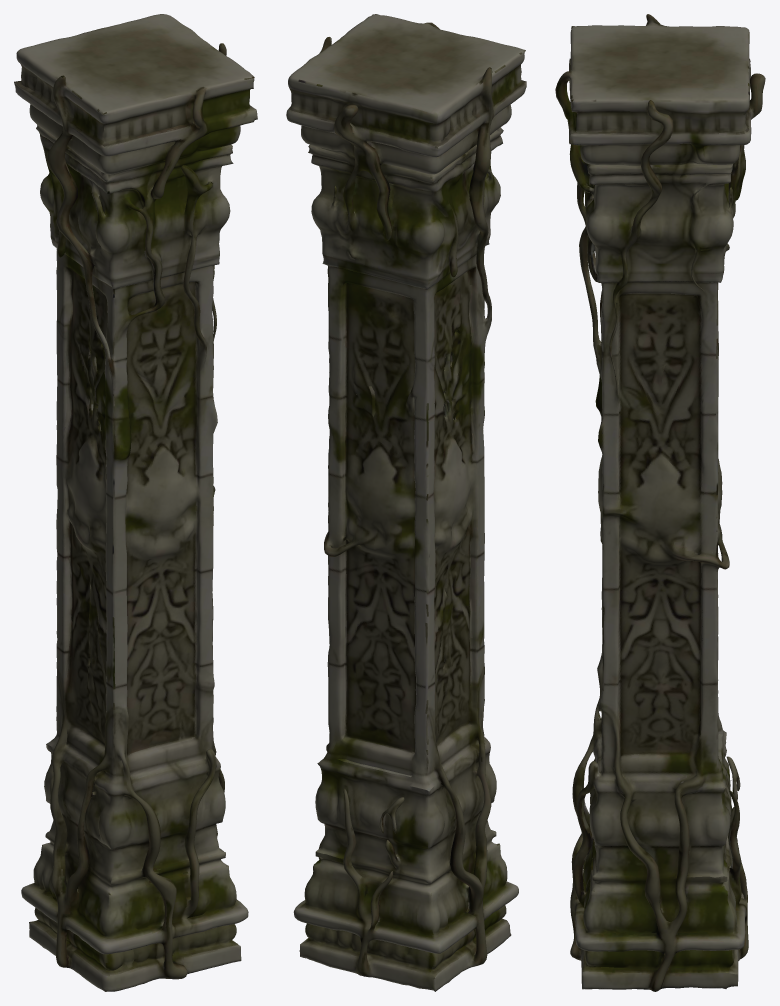
Rendered from Pillar.fbx.
3 views of the same model, side by side, from view 1: azimuth 30°, elevation 25°; view 2: azimuth 150°, elevation 25°; view 3: azimuth 270°, elevation 25° (orthographic).
Parts seen in each view (by area): view 1: tripo_node_7c297cb0; view 2: tripo_node_7c297cb0; view 3: tripo_node_7c297cb0.
Part boxes in pixels (left/top/right/bottom): tripo_node_7c297cb0: left=14, top=14, right=257, bottom=991; tripo_node_7c297cb0: left=286, top=14, right=526, bottom=991; tripo_node_7c297cb0: left=555, top=14, right=765, bottom=991.
Size of the model in its own units: 0.2053 by 0.9982 by 0.2103.
Materials: 1 (1 with a texture image).
